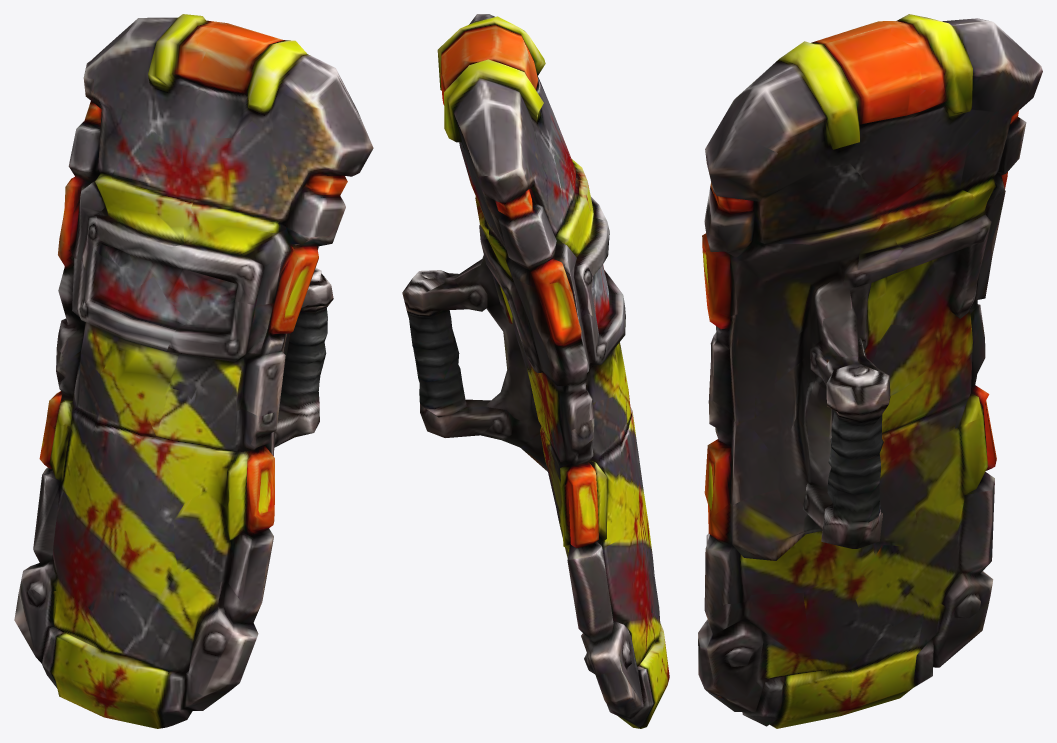
File: E07_shield_A.glb
3 views of the same model, side by side, from view 1: azimuth 30°, elevation 25°; view 2: azimuth 150°, elevation 25°; view 3: azimuth 270°, elevation 25° (orthographic). The views are drawn at different scales.
Visible parts, largest first — view 1: tripo_node_f1175ced-d7cf-442b-8edd-db5d0898fa97; view 2: tripo_node_f1175ced-d7cf-442b-8edd-db5d0898fa97; view 3: tripo_node_f1175ced-d7cf-442b-8edd-db5d0898fa97.
Part boxes in pixels (bbox=[...]): tripo_node_f1175ced-d7cf-442b-8edd-db5d0898fa97: bbox=[14, 14, 373, 728]; tripo_node_f1175ced-d7cf-442b-8edd-db5d0898fa97: bbox=[402, 14, 669, 728]; tripo_node_f1175ced-d7cf-442b-8edd-db5d0898fa97: bbox=[698, 14, 1042, 728].
Size of the model in its own units: 0.4365 by 0.9979 by 0.4086.
1 material, 1 textured.
